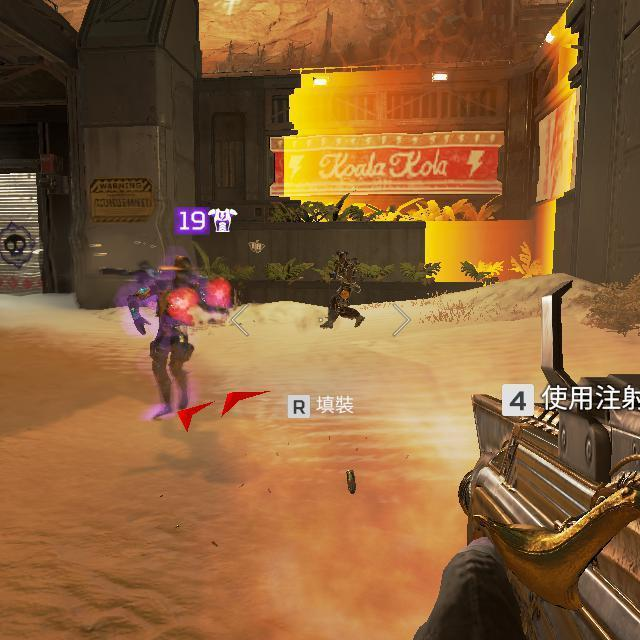avatar: (147, 254, 196, 421), (318, 249, 366, 330)
object: (165, 283, 199, 328), (204, 275, 233, 310)
